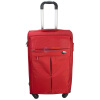luggage: (25, 2, 75, 100)
